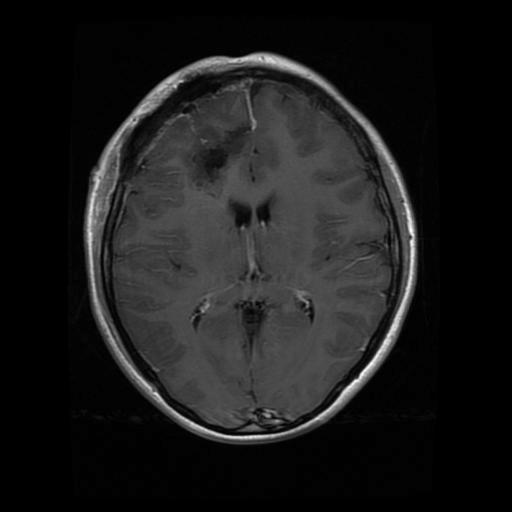Tumour-Glioma: (186, 131, 238, 191)
